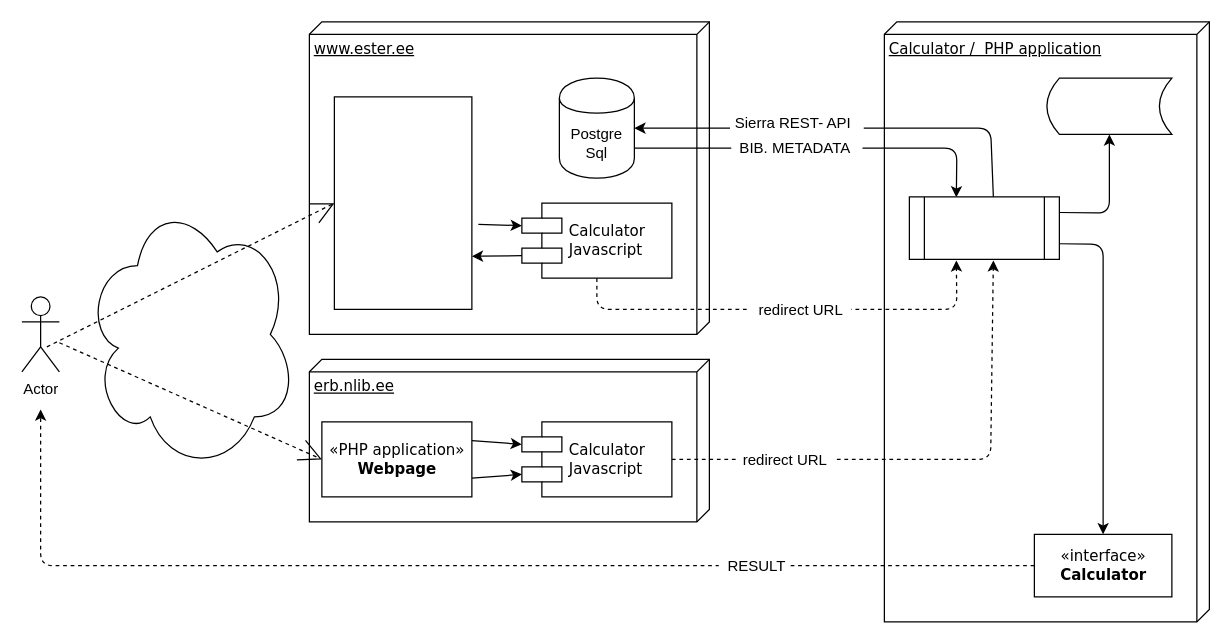
The diagram is 1231 pixels wide and 644 high, and some of its shapes have lost their labels. The centre of each missing label's shape, as x and y in pixels:
"access.log" belongs at (1109,105).
"Calculator process" belongs at (983,227).
"Internet" belongs at (190,334).
"«WebPac PRO» Webpage" belongs at (402,202).
